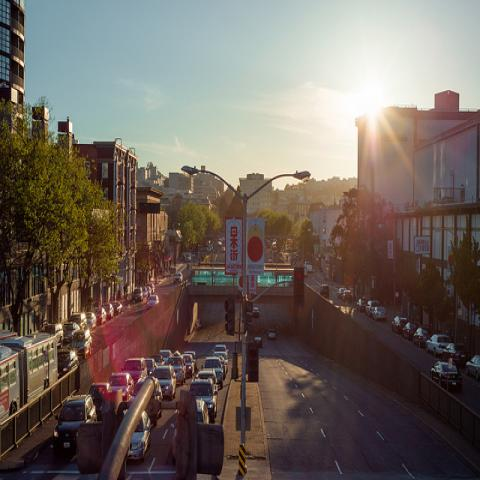bus: (0, 332, 58, 423)
car: (267, 324, 462, 394), (51, 394, 97, 450), (188, 378, 218, 424), (130, 410, 151, 460), (153, 362, 177, 401), (108, 373, 134, 402), (194, 364, 219, 392), (121, 357, 147, 383), (204, 356, 223, 390), (425, 335, 451, 357), (181, 354, 195, 379), (212, 345, 229, 360), (144, 358, 157, 375)
truck: (167, 350, 187, 386)
